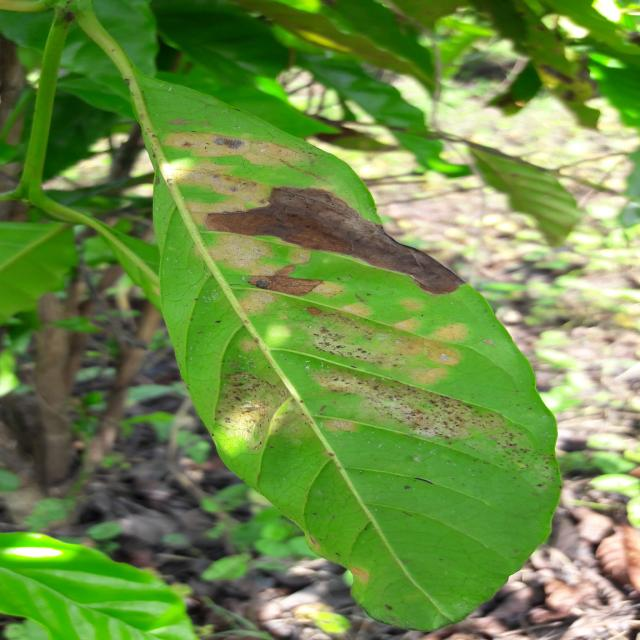Plaga-AranaRoja: (144, 86, 562, 633)
